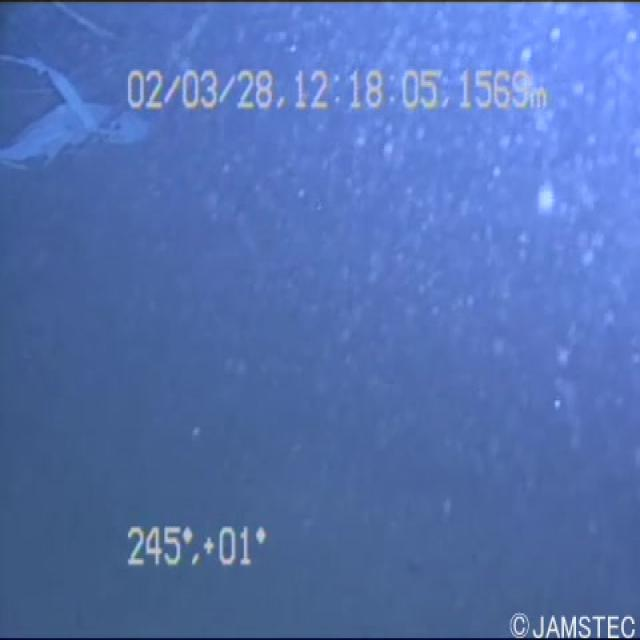plastic: (0, 44, 159, 190)
